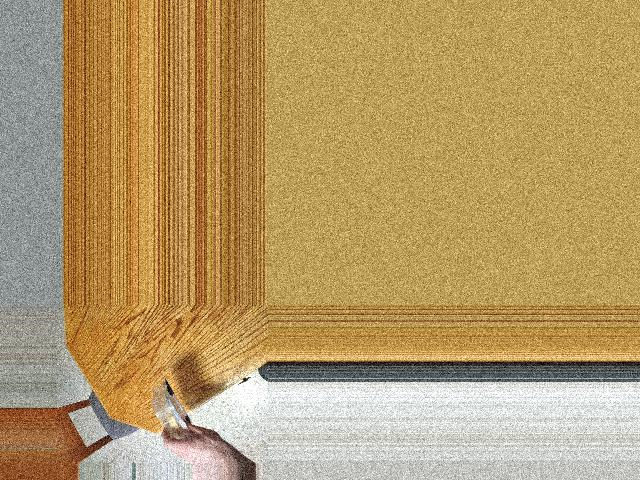cheese: (151, 381, 190, 442)
